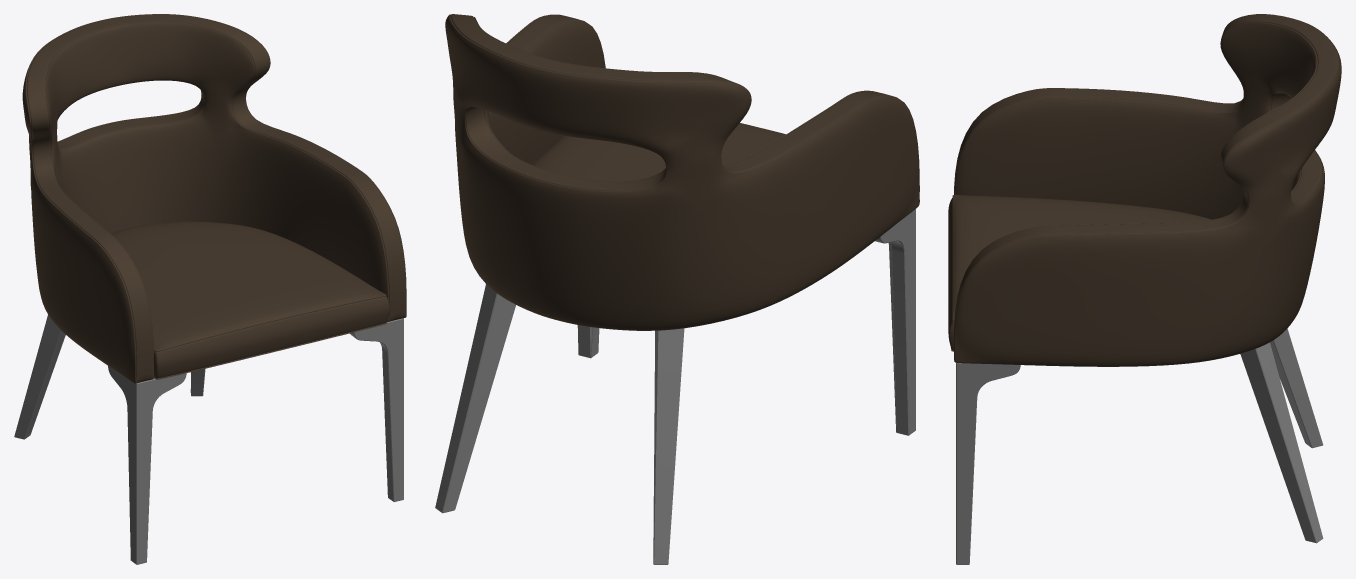
The model's file is 棕色布艺扶手椅.FBX.
The picture shows the model from 3 angles, left to right: view 1: azimuth 30°, elevation 25°; view 2: azimuth 150°, elevation 25°; view 3: azimuth 270°, elevation 25°; orthographic projection. The views are drawn at different scales.
Parts seen in each view (by area): view 1: obj_06, obj_01, obj_03, obj_02, obj_05; view 2: obj_06, obj_04, obj_01, obj_05, obj_03, obj_02; view 3: obj_06, obj_01, obj_04, obj_02, obj_05.
Boxes of the visible parts, x1,y1,x2,y2 form: obj_06: (22,14,406,383); obj_01: (111,221,389,379); obj_03: (108,366,186,564); obj_02: (350,318,403,501); obj_05: (14,314,65,439); obj_06: (445,14,919,330); obj_04: (435,284,515,513); obj_01: (533,123,785,181); obj_05: (653,328,684,564); obj_03: (875,209,915,435); obj_02: (577,325,599,358); obj_06: (953,14,1341,366); obj_01: (948,195,1211,351); obj_04: (1240,342,1323,543); obj_02: (956,362,1020,564); obj_05: (1270,328,1323,448).
Size of the model in its own units: 666 by 883 by 730.
